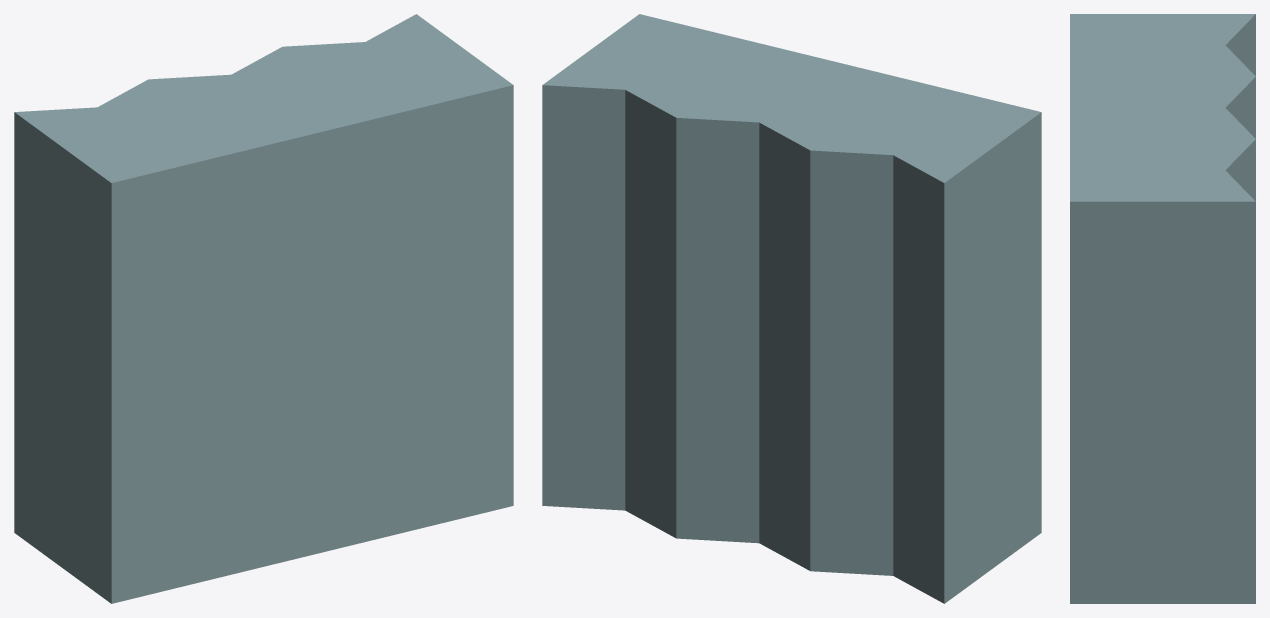
The model's file is cliff_large_stone.glb.
3 renders of one model, left to right at view 1: azimuth 30°, elevation 25°; view 2: azimuth 150°, elevation 25°; view 3: azimuth 270°, elevation 25°, orthographic. The views are drawn at different scales.
Parts seen in each view (by area): view 1: cliff_large_stone; view 2: cliff_large_stone; view 3: cliff_large_stone.
Part boxes in pixels (<box>): cliff_large_stone: <box>14,14,513,603</box>; cliff_large_stone: <box>542,14,1041,603</box>; cliff_large_stone: <box>1070,14,1255,603</box>.
Size of the model in its own units: 1.2 by 1.2 by 0.5022.
